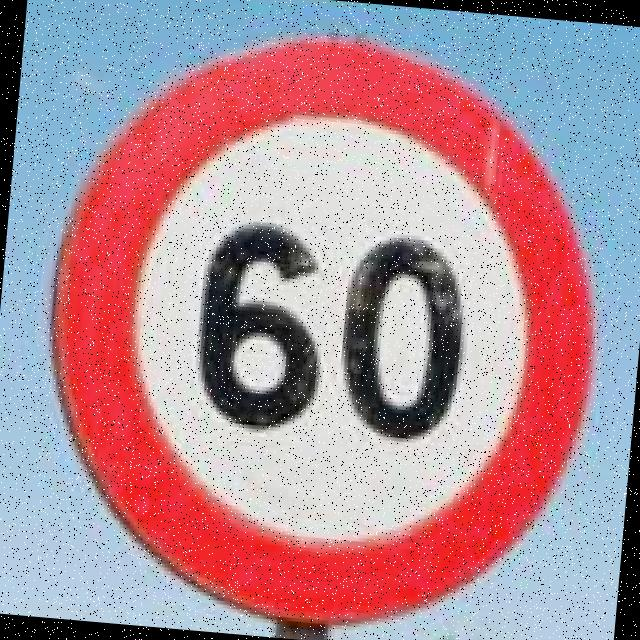Ograniczenie predkosci do 60: (23, 9, 619, 640)
